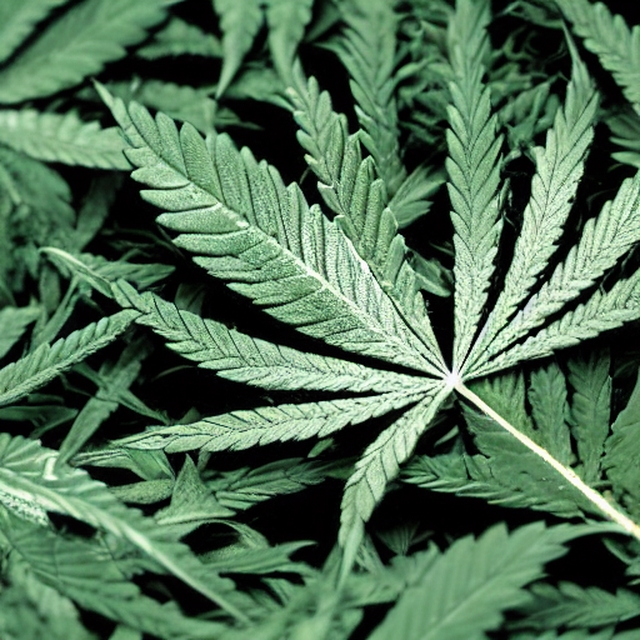Marijuana Leaf: (1, 1, 638, 637)
